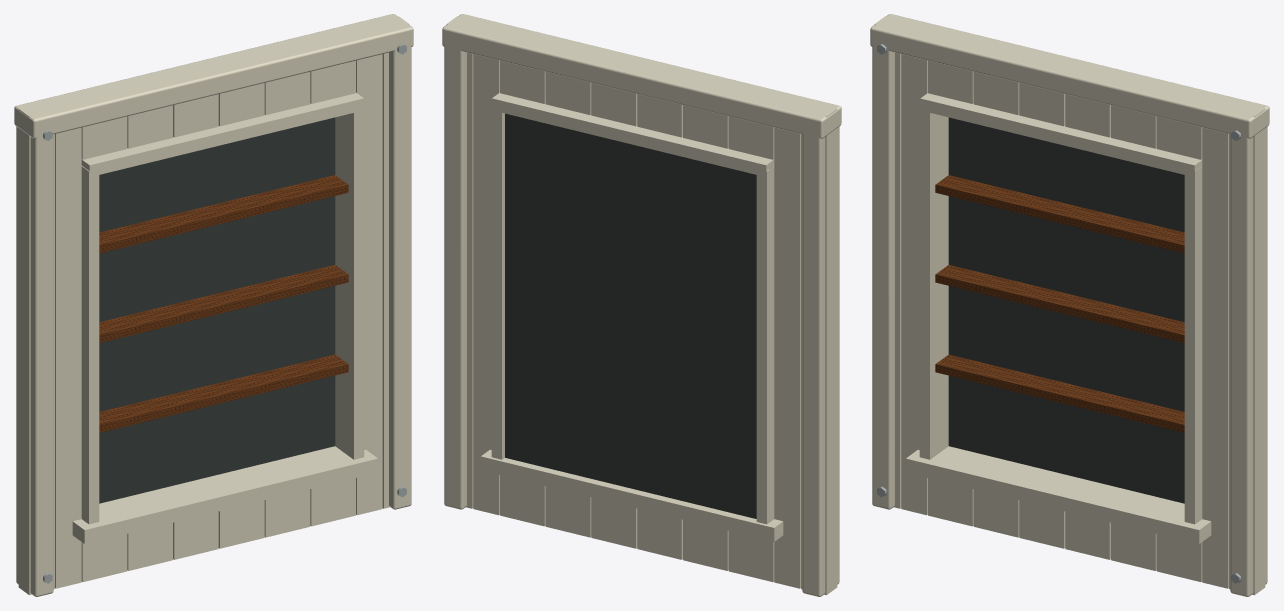
File: RoomRecessedShelfWall.glb
3 views of the same model, side by side, from view 1: azimuth 30°, elevation 25°; view 2: azimuth 150°, elevation 25°; view 3: azimuth 330°, elevation 25° (orthographic).
Parts seen in each view (by area): view 1: room-recessed-shelf-wall; view 2: room-recessed-shelf-wall; view 3: room-recessed-shelf-wall.
Boxes of the visible parts, x1,y1,x2,y2 form: room-recessed-shelf-wall: (14, 14, 413, 596); room-recessed-shelf-wall: (442, 14, 841, 596); room-recessed-shelf-wall: (870, 14, 1269, 596).
Size of the model in its own units: 2 by 2.4 by 0.29.
Materials: 4 (1 with a texture image).
